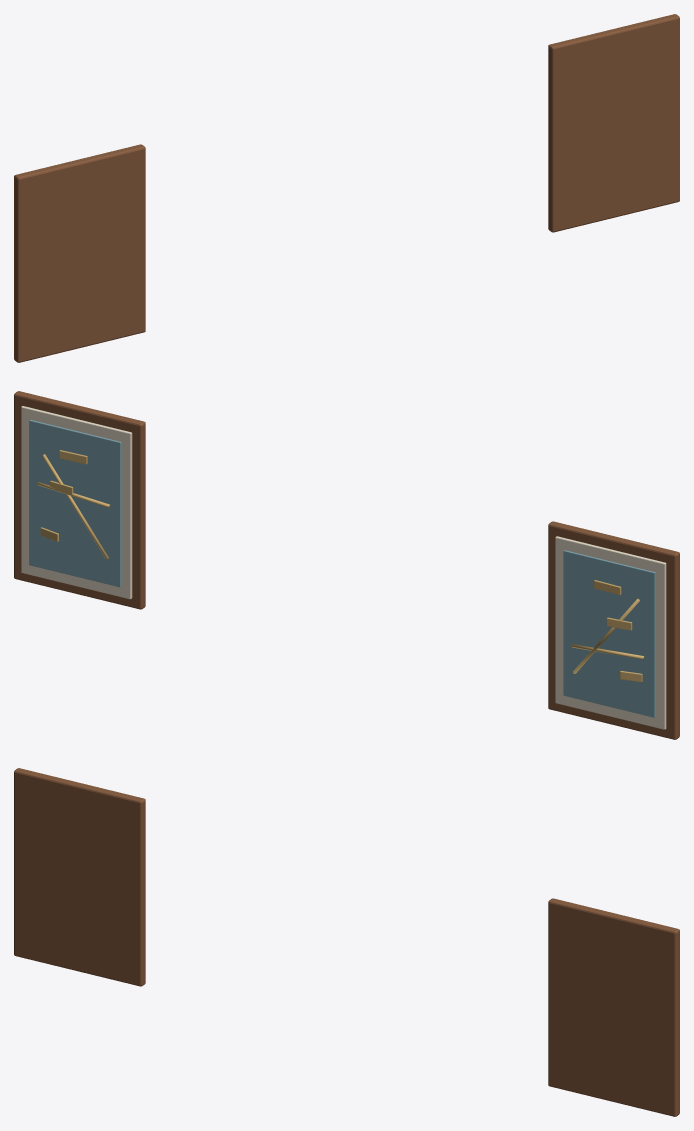
Rendered from portal_art_pair.glb.
The picture shows the model from 3 angles, top to bottom: view 1: azimuth 30°, elevation 25°; view 2: azimuth 150°, elevation 25°; view 3: azimuth 330°, elevation 25°; orthographic projection.
Parts seen in each view (by area): view 1: arrival_dressing_art_001_relief_back_-1, arrival_dressing_art_009_relief_back_1; view 2: arrival_dressing_art_011_relief_canvas_1, arrival_dressing_art_003_relief_canvas_-1, arrival_dressing_art_001_relief_back_-1, arrival_dressing_art_009_relief_back_1, arrival_dressing_art_002_relief_mat_-1, arrival_dressing_art_010_relief_mat_1; view 3: arrival_dressing_art_001_relief_back_-1, arrival_dressing_art_009_relief_back_1.
Part boxes in pixels (x1,y1,x2,y2): arrival_dressing_art_001_relief_back_-1: (14, 144, 145, 362); arrival_dressing_art_009_relief_back_1: (548, 14, 679, 232); arrival_dressing_art_011_relief_canvas_1: (29, 420, 121, 587); arrival_dressing_art_003_relief_canvas_-1: (563, 550, 655, 717); arrival_dressing_art_001_relief_back_-1: (548, 521, 679, 739); arrival_dressing_art_009_relief_back_1: (14, 391, 145, 609); arrival_dressing_art_002_relief_mat_-1: (555, 536, 666, 729); arrival_dressing_art_010_relief_mat_1: (21, 406, 132, 599); arrival_dressing_art_001_relief_back_-1: (14, 768, 145, 986); arrival_dressing_art_009_relief_back_1: (548, 898, 679, 1116).
Bounding box in the file's own units: 3.92 × 1.05 × 0.1088.
